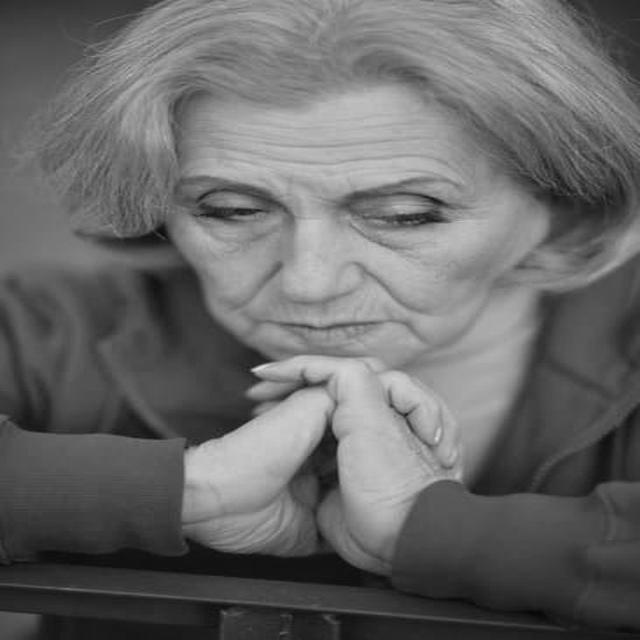Sadness: (177, 75, 496, 366)
